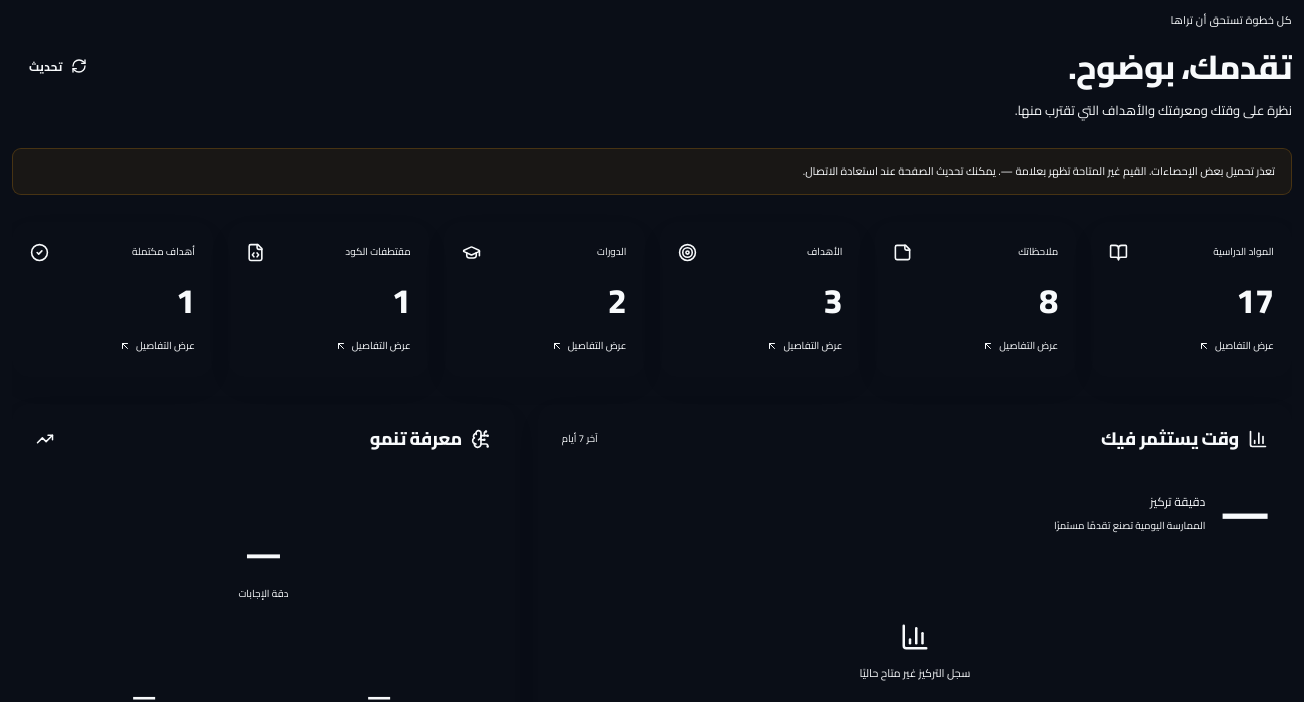
Test case: analytics states › keeps available statistics when one service fails, then retries
Expected: the message shows "بعض الإحصاءات", [803, 161, 1275, 181]
Expected: the text "17" is shown, [1236, 269, 1274, 332]
Step 1. Click the button "تحديث" → (58, 66), box [12, 46, 104, 87]
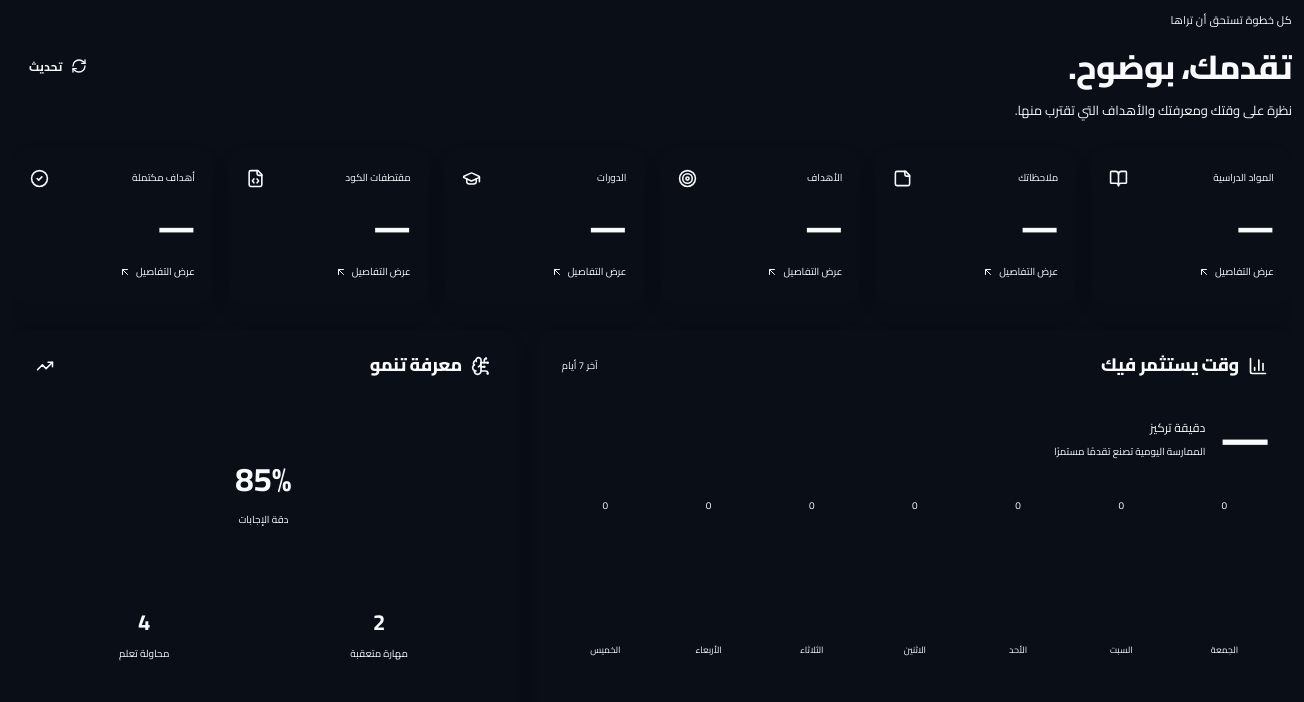
Now the message is gone
Now the text "85%" is shown, box [235, 453, 292, 506]
